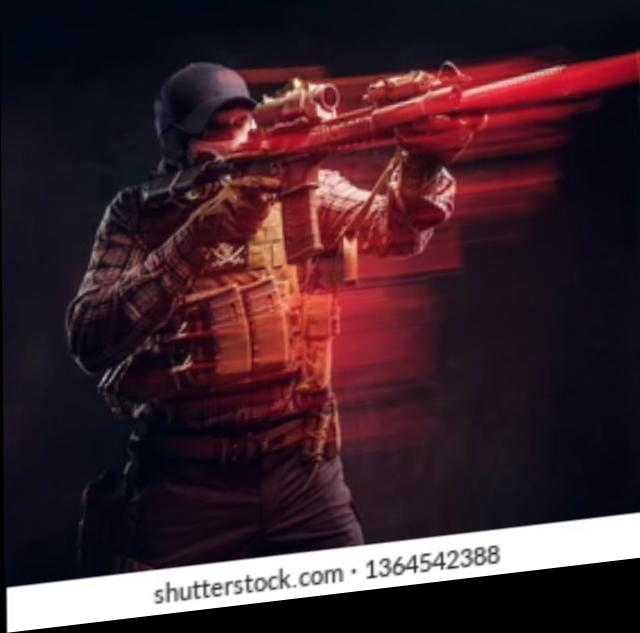other: (72, 62, 362, 558)
